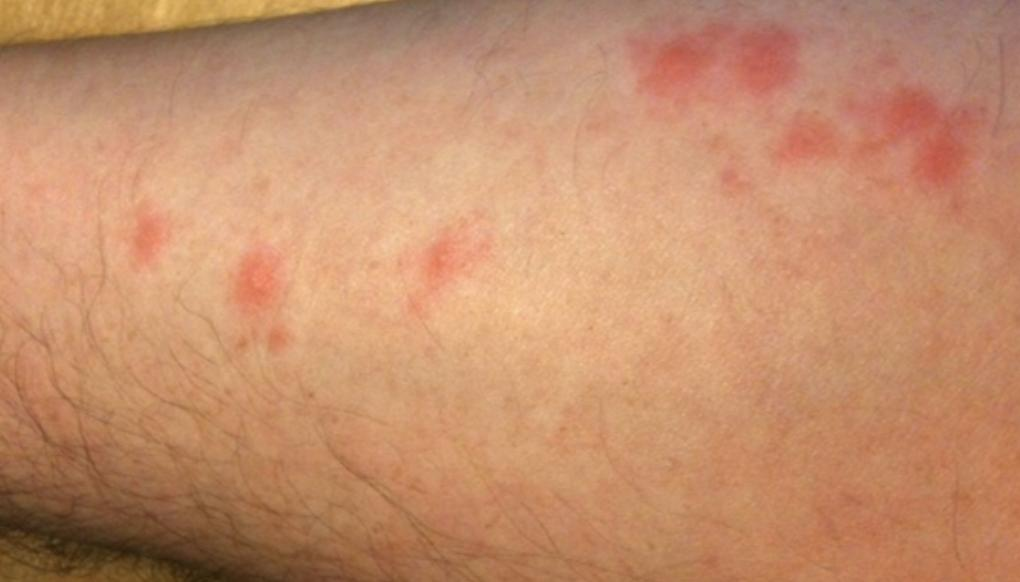Gnat-bites: (630, 25, 720, 105), (404, 219, 479, 290), (222, 245, 290, 318), (770, 108, 851, 168), (733, 19, 796, 96), (119, 198, 172, 285), (893, 79, 943, 151), (925, 142, 963, 185), (263, 325, 290, 346)
